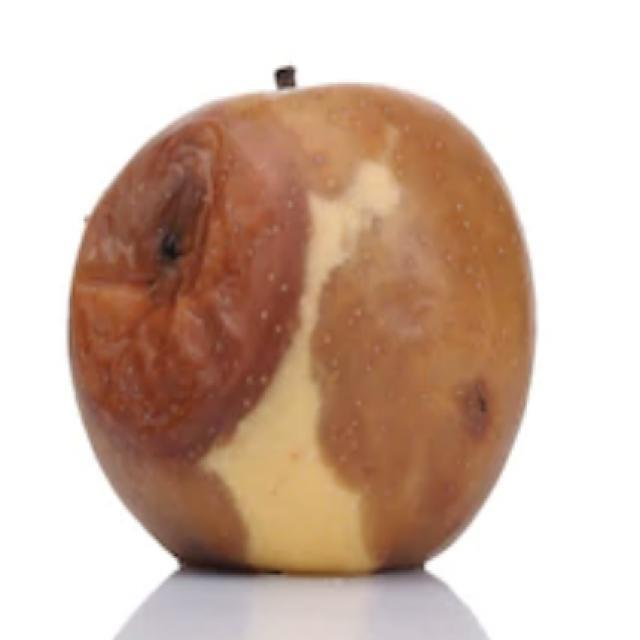Rotten: (66, 90, 536, 598)
